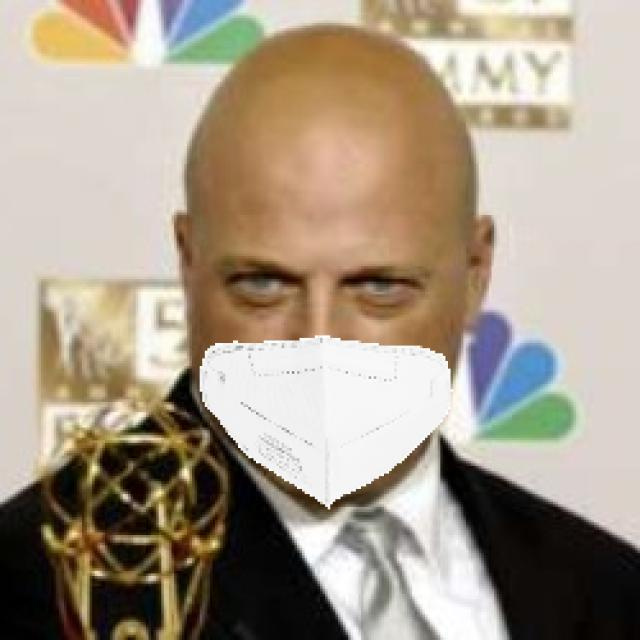mask: (191, 328, 451, 505)
